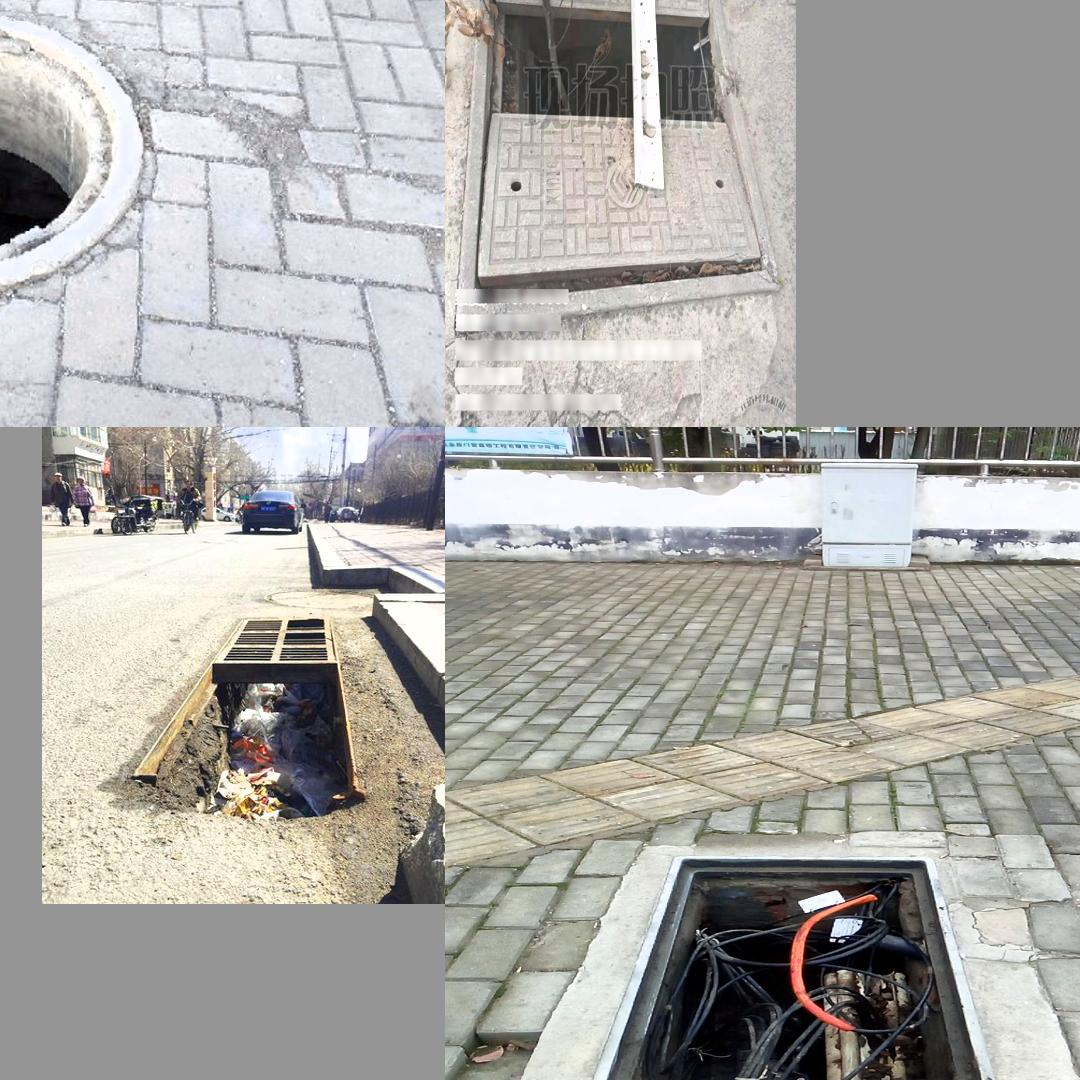lose: (454, 0, 781, 332), (599, 826, 985, 1080), (127, 664, 388, 819), (0, 10, 144, 267)
